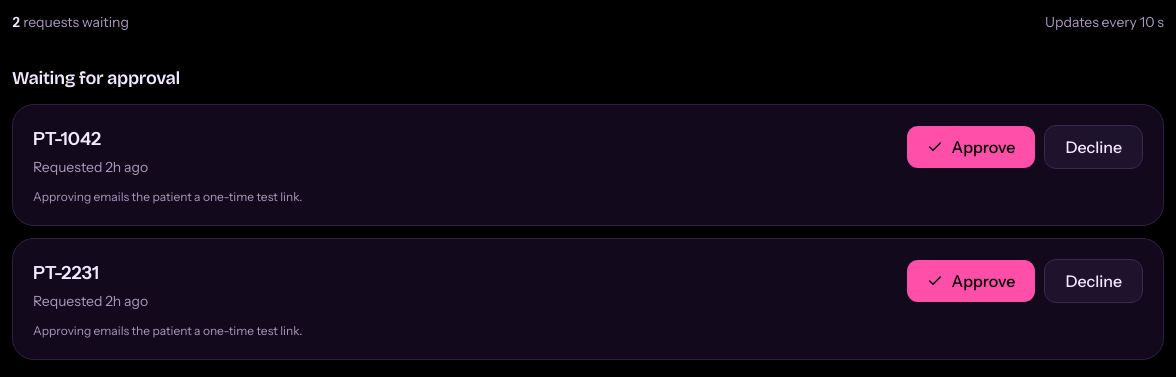
Test: RequestsInbox › 409 already_decided: says someone else handled it and refreshes
This screenshot has width=1176, height=377.
Check: the text "PT-1042" is shown, box [33,128,101,150]
What coordinates should you click on to do the following:
click the button with aria-label "Approve refill request for PT-1042"
I would click on:
 (972, 147)
Its box is [906,125,1036,169].
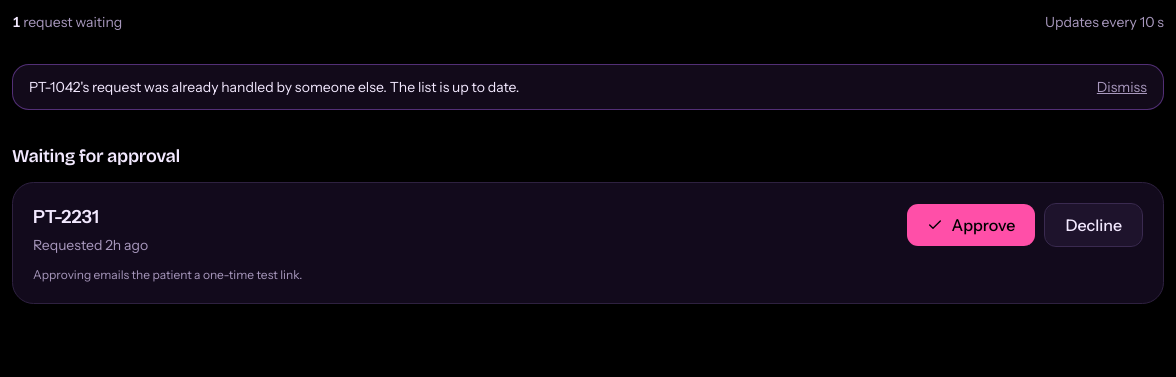
Check: the message shows "already handled by someone else", box [29,78,519,96]
